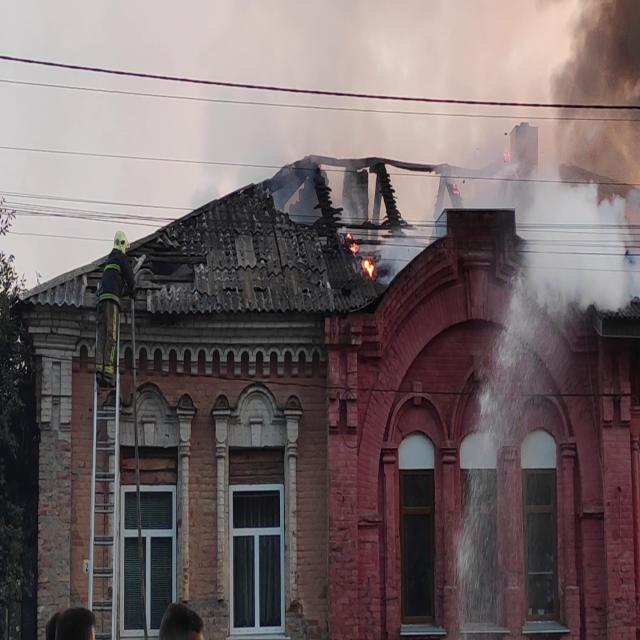smoke: (539, 192, 610, 304), (579, 0, 640, 91)
